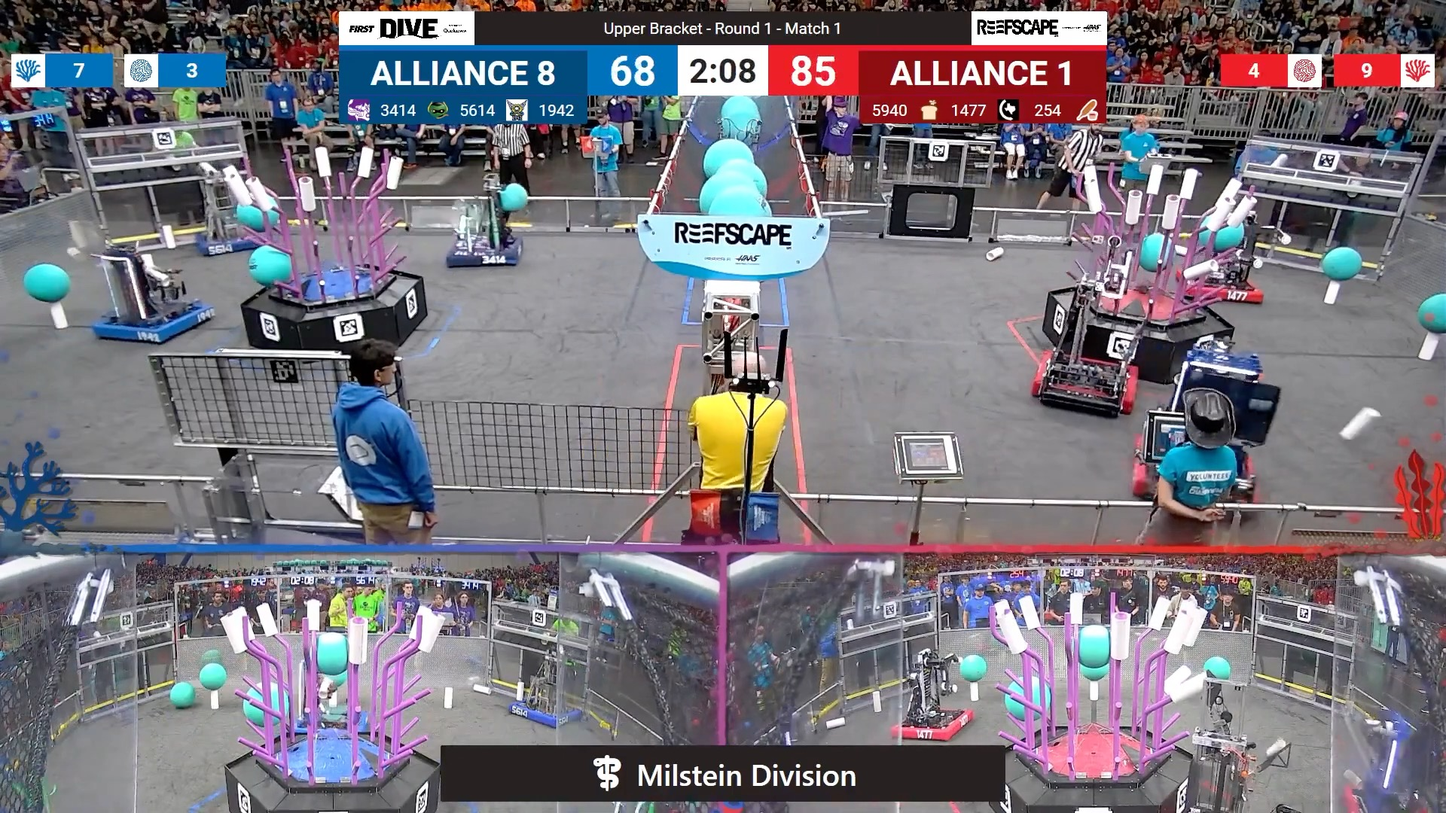bumpers: (1126, 432, 1264, 506), (1021, 344, 1145, 419), (91, 299, 218, 347), (1167, 269, 1273, 303), (436, 233, 530, 270), (504, 695, 587, 735), (889, 703, 976, 740), (187, 225, 276, 259)
